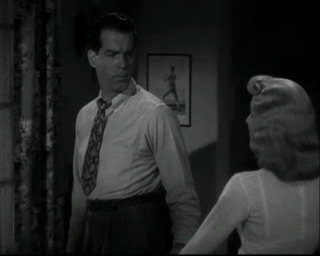face: (101, 38, 136, 92)
ms: (1, 1, 320, 256)
person: (64, 16, 201, 253), (178, 75, 320, 253)
